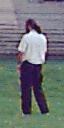person: (6, 13, 57, 112)
